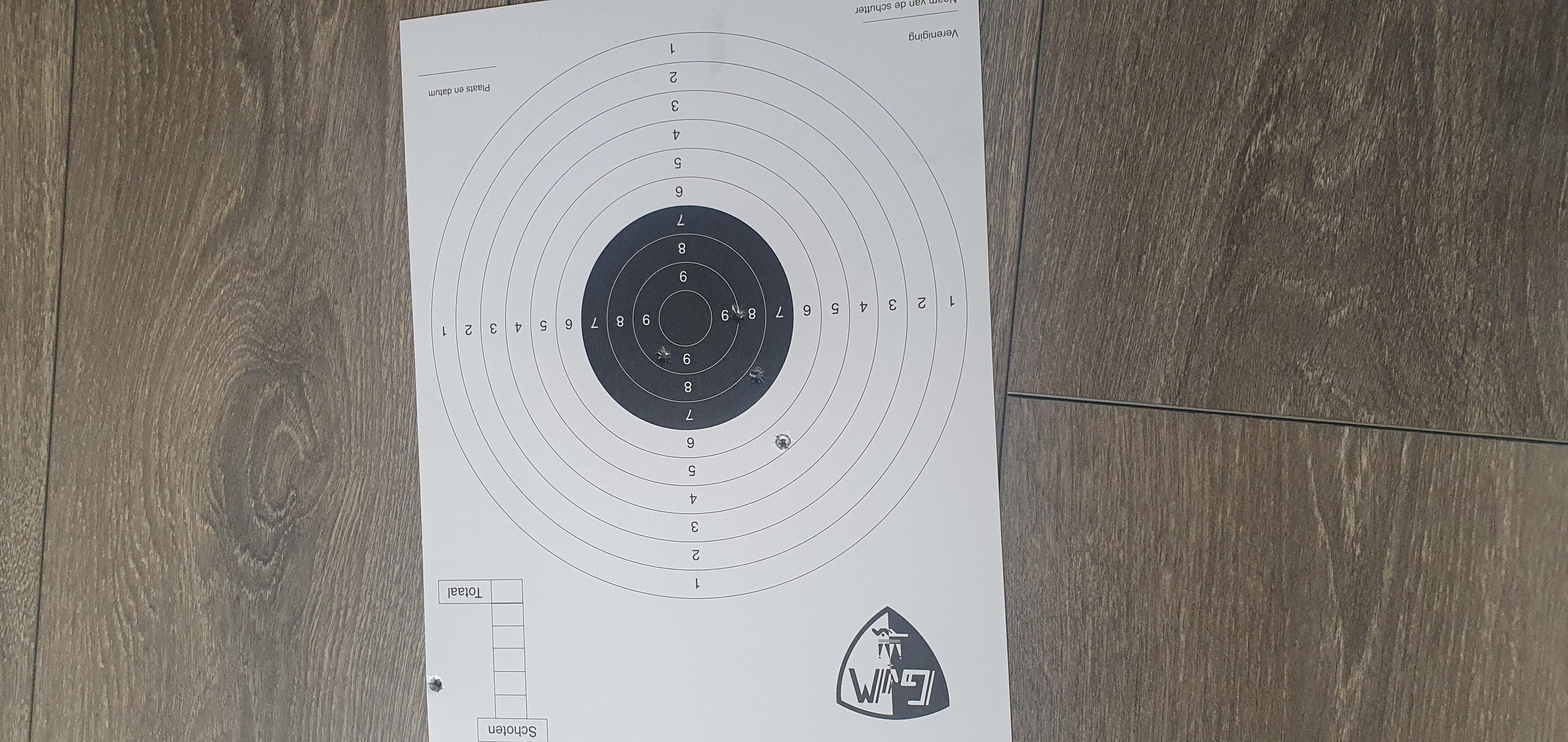hole: (610, 366, 661, 377), (880, 344, 927, 353), (753, 353, 795, 363), (794, 309, 838, 318), (102, 202, 142, 211)
